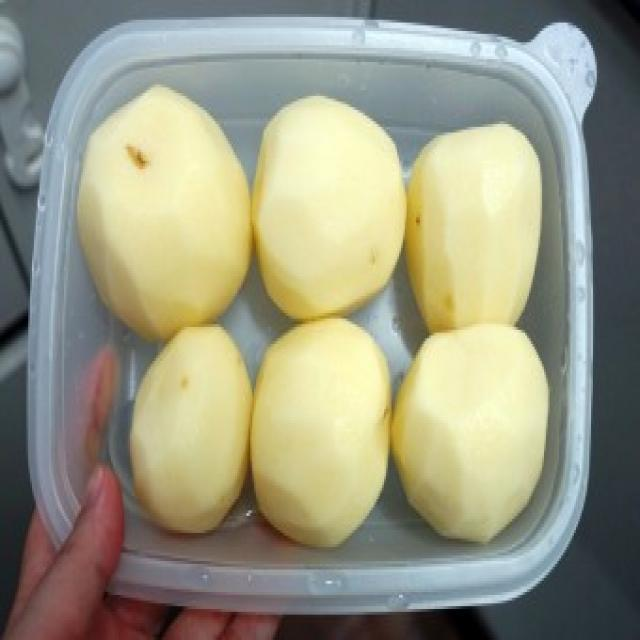potato: (72, 78, 254, 346), (393, 321, 550, 545), (256, 92, 406, 325), (253, 310, 398, 549), (406, 116, 548, 340), (126, 322, 258, 534)
